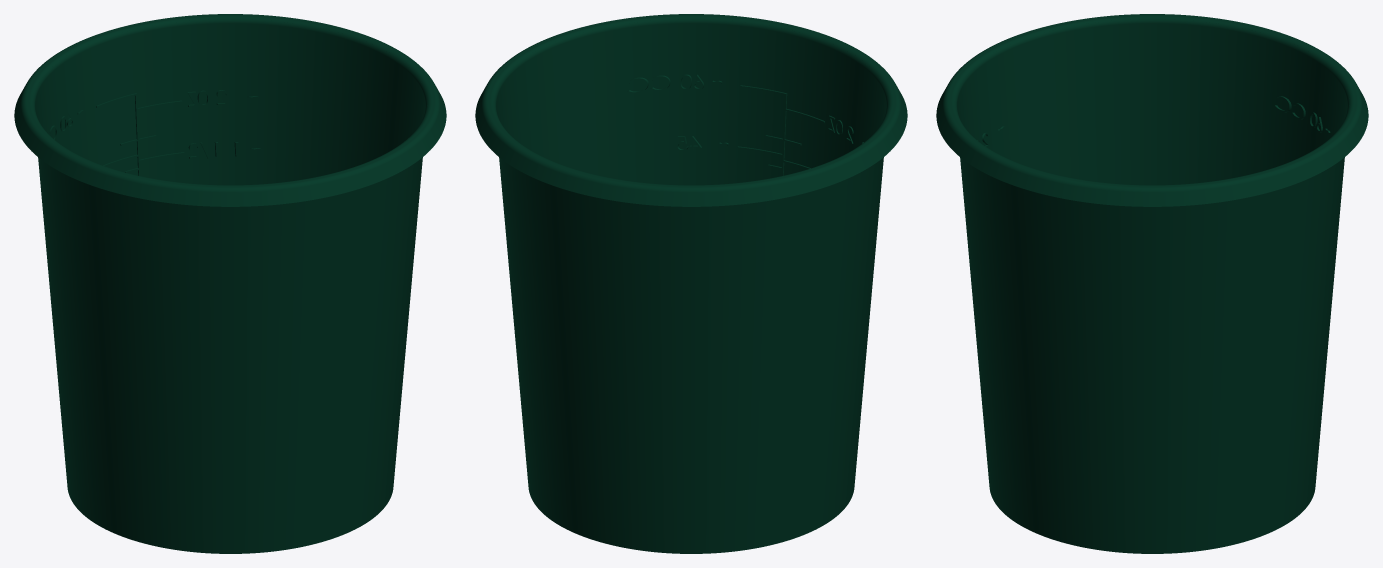
3 views of the same model, side by side, from view 1: azimuth 30°, elevation 25°; view 2: azimuth 150°, elevation 25°; view 3: azimuth 270°, elevation 25° (orthographic).
Visible parts, largest first — view 1: Bols JIE GAO PLASTICS PRODUCTS; view 2: Bols JIE GAO PLASTICS PRODUCTS; view 3: Bols JIE GAO PLASTICS PRODUCTS.
Boxes of the visible parts, <box> form: Bols JIE GAO PLASTICS PRODUCTS: <box>14,14,446,553</box>; Bols JIE GAO PLASTICS PRODUCTS: <box>475,14,907,553</box>; Bols JIE GAO PLASTICS PRODUCTS: <box>936,14,1368,553</box>.
Size of the model in its own units: 0.053 by 0.052 by 0.053.
